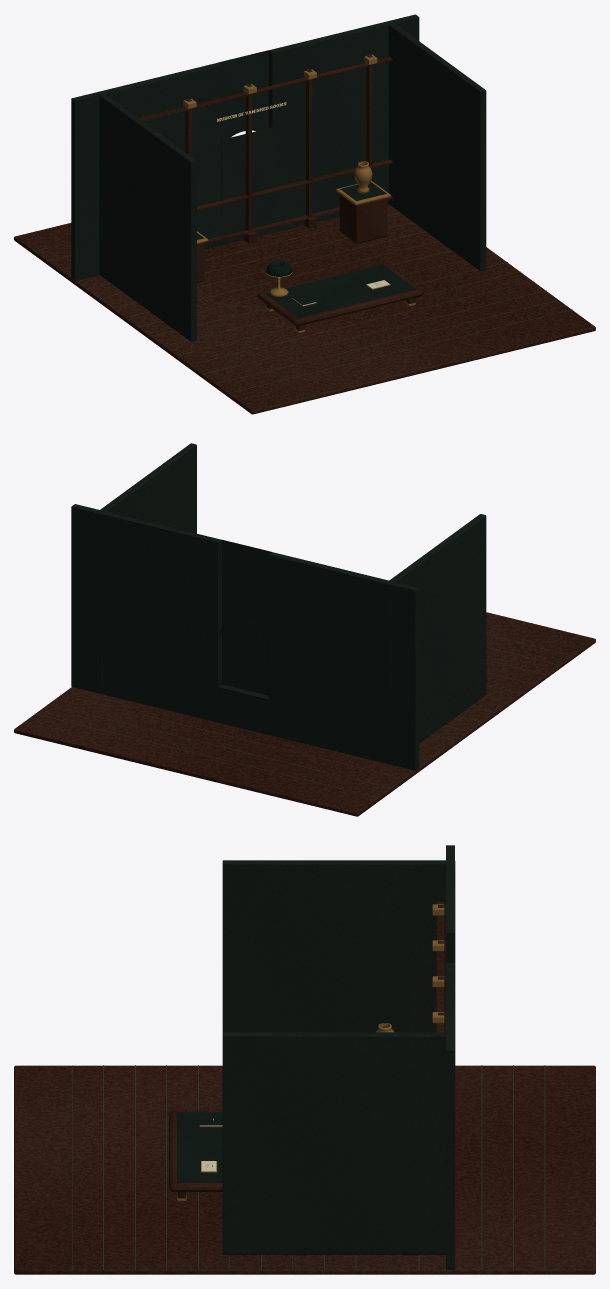
Rendered from west-gallery.glb.
3 renders of one model, top to bottom at view 1: azimuth 30°, elevation 25°; view 2: azimuth 150°, elevation 25°; view 3: azimuth 270°, elevation 25°, orthographic. The views are drawn at different scales.
Parts seen in each view (by area): view 1: West_Gallery / Museum green, West_Gallery / Walnut, West_Gallery / Forest velvet, Unrevealed wall seam, West_Gallery / Engraved charcoal, West_Gallery / Aged brass, Wall pilaster.002; view 2: West_Gallery / Museum green, West_Gallery / Walnut, Unrevealed wall seam, West_Gallery / Engraved charcoal; view 3: West_Gallery / Museum green, West_Gallery / Walnut, West_Gallery / Forest velvet, West_Gallery / Engraved charcoal, West_Gallery / Aged brass.
Part boxes in pixels (left/top/right/bottom): West_Gallery / Museum green: left=71, top=14, right=486, bottom=341; West_Gallery / Walnut: left=14, top=54, right=595, bottom=414; West_Gallery / Forest velvet: left=197, top=181, right=415, bottom=317; Unrevealed wall seam: left=221, top=127, right=273, bottom=209; West_Gallery / Engraved charcoal: left=35, top=212, right=572, bottom=393; West_Gallery / Aged brass: left=183, top=54, right=415, bottom=333; Wall pilaster.002: left=245, top=83, right=251, bottom=231; West_Gallery / Museum green: left=71, top=443, right=486, bottom=770; West_Gallery / Walnut: left=14, top=612, right=595, bottom=816; Unrevealed wall seam: left=222, top=614, right=268, bottom=695; West_Gallery / Engraved charcoal: left=34, top=634, right=572, bottom=797; West_Gallery / Museum green: left=222, top=845, right=455, bottom=1269; West_Gallery / Walnut: left=14, top=902, right=595, bottom=1274; West_Gallery / Forest velvet: left=177, top=1112, right=222, bottom=1182; West_Gallery / Engraved charcoal: left=72, top=1065, right=545, bottom=1269; West_Gallery / Aged brass: left=177, top=904, right=444, bottom=1200.
Size of the model in its own units: 10 by 5.12 by 12.
7 materials, 5 textured.
